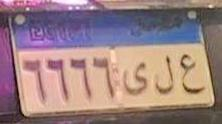6: (47, 58, 70, 100), (25, 59, 44, 102), (70, 58, 91, 96), (93, 56, 111, 98)
ain: (178, 51, 201, 95)
laam: (154, 56, 176, 97)
yaa: (122, 62, 147, 93)
